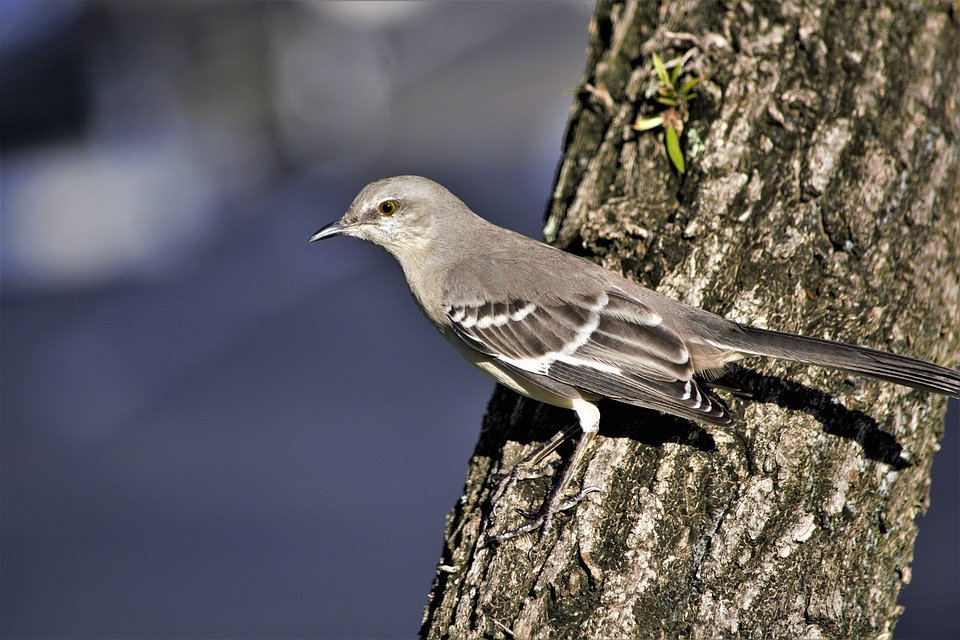bird: (255, 123, 960, 463)
